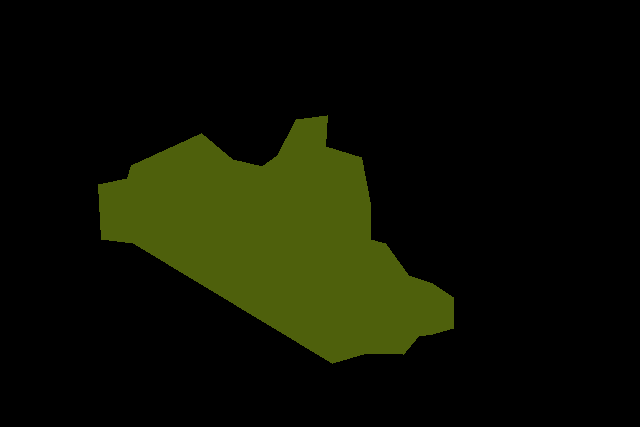Train: (98, 115, 454, 363)
